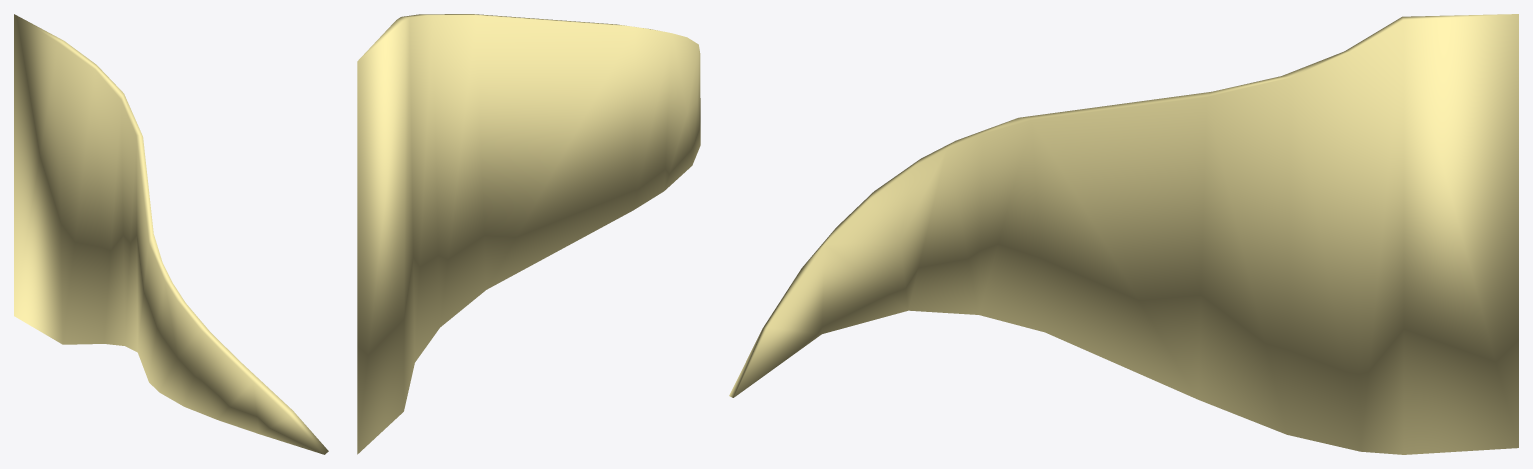
The picture shows the model from 3 angles, left to right: view 1: azimuth 30°, elevation 25°; view 2: azimuth 150°, elevation 25°; view 3: azimuth 270°, elevation 25°; orthographic projection. The views are drawn at different scales.
Visible parts, largest first — view 1: laco; view 2: laco; view 3: laco.
Part boxes in pixels (x1,y1,x2,y2): laco: (14,14,328,454); laco: (357,14,700,454); laco: (729,14,1518,454).
Bounding box in the file's own units: 0.0151 × 0.0825 × 0.05.
